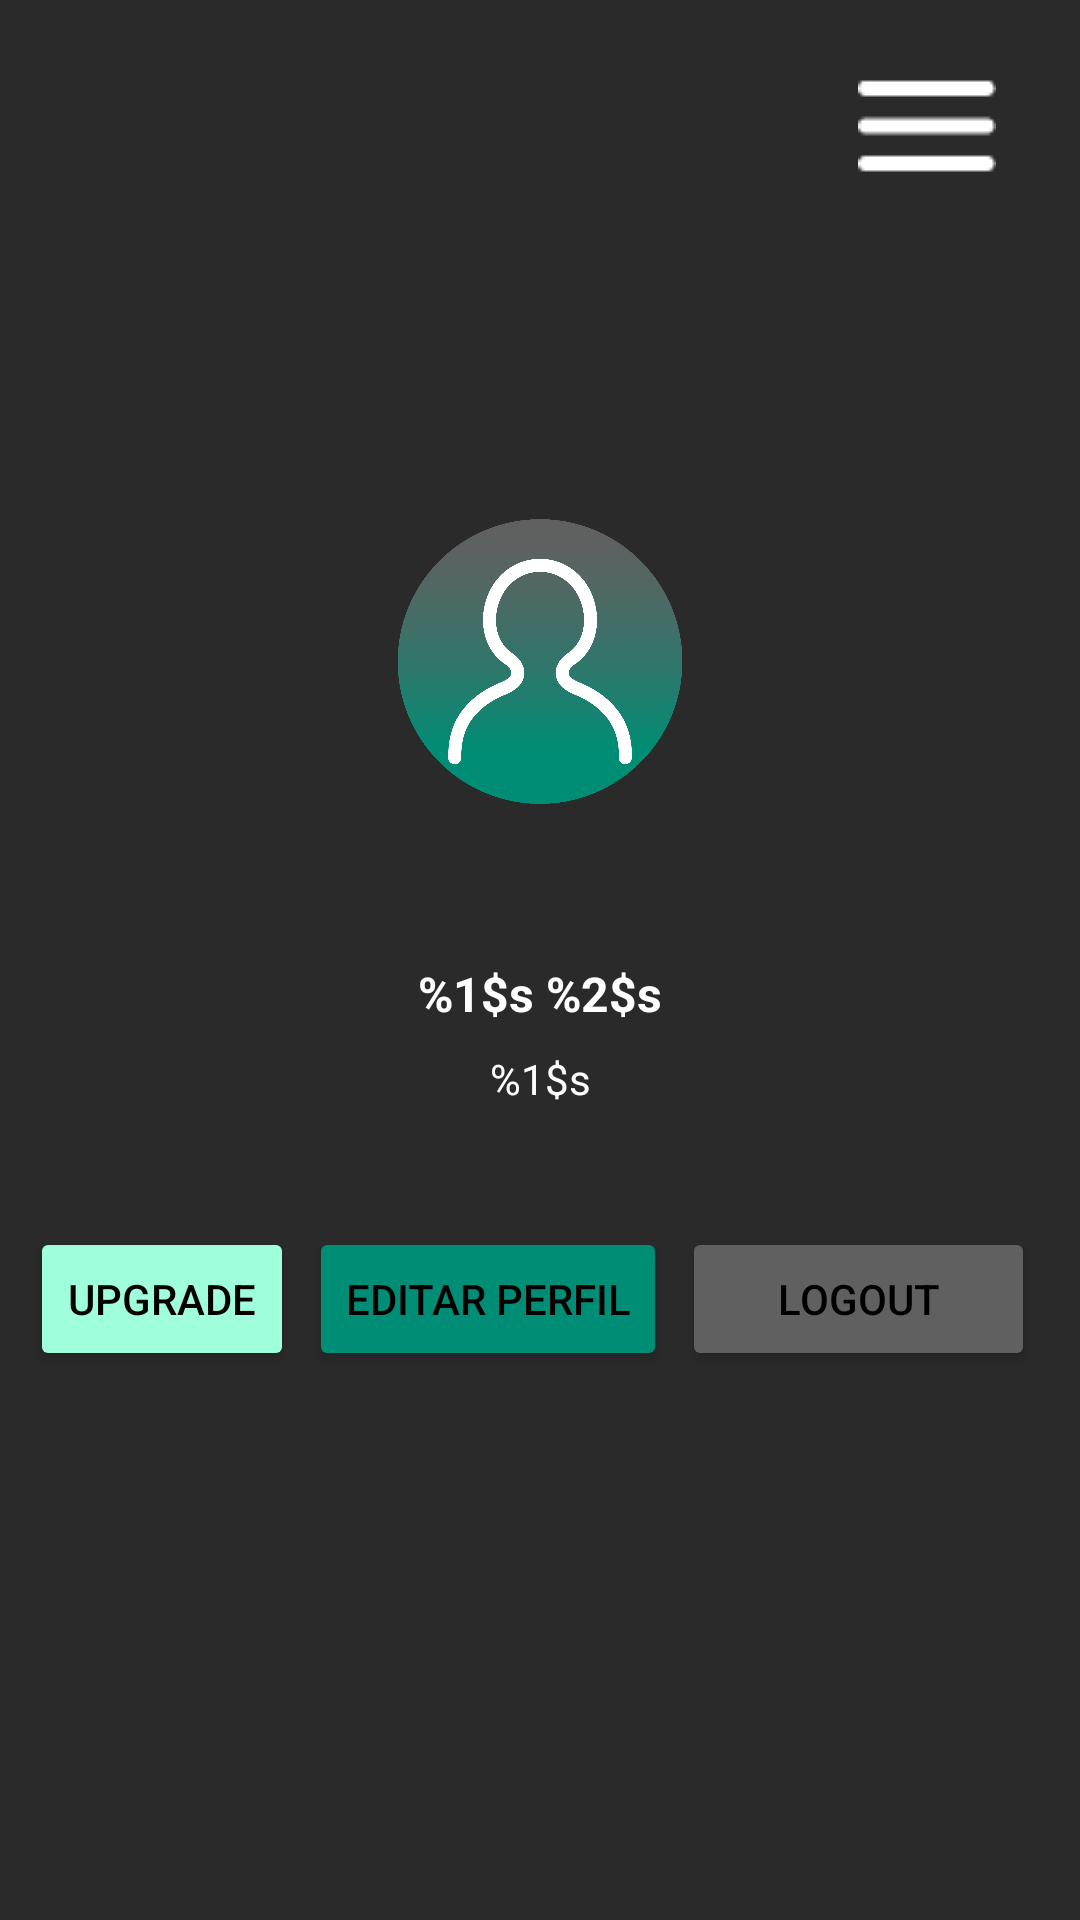

Named icons in this screenshot (1080 x 1920) and their bounding boxes, (x1, y1, x2, y2):
menu: (858, 80, 996, 172)
profile: (398, 519, 682, 804)
